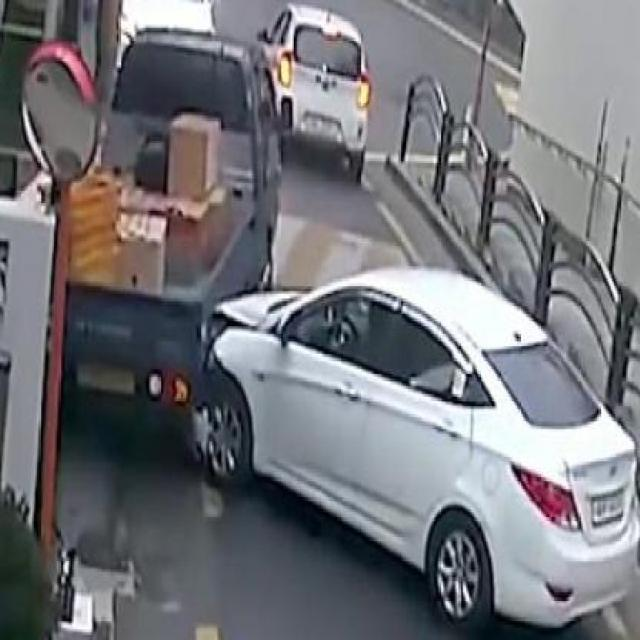accident: (42, 36, 520, 564)
